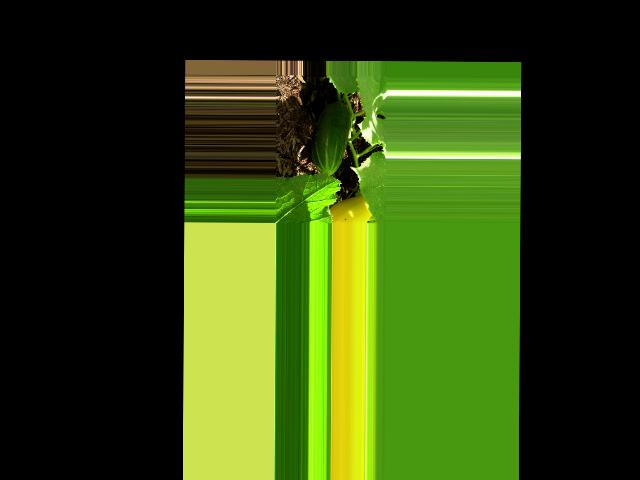cucumber: (310, 100, 351, 175)
